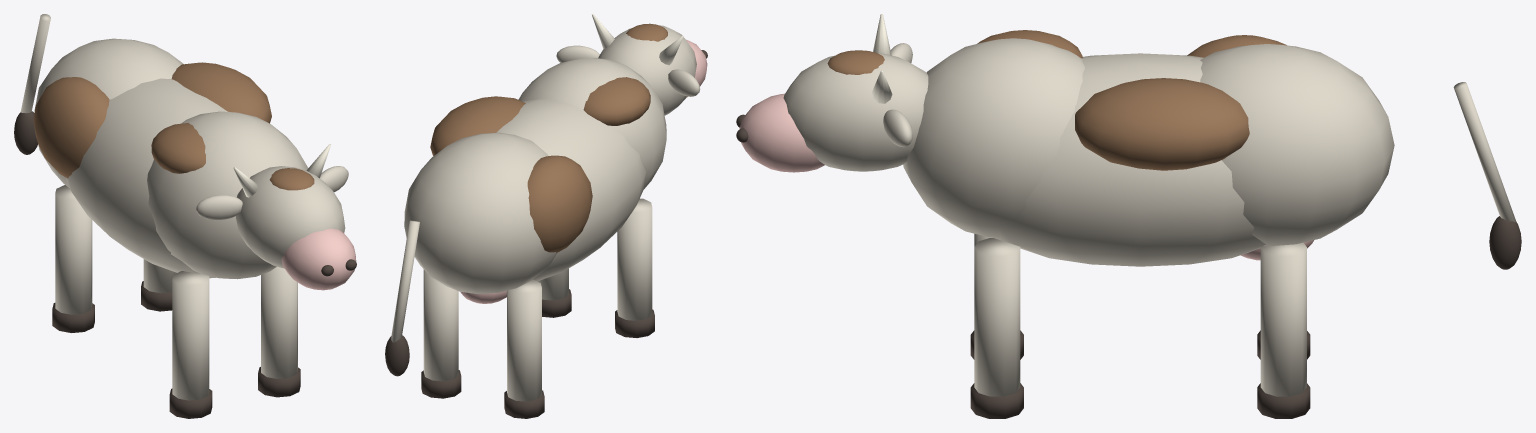
The model's file is ganado.glb.
3 renders of one model, left to right at view 1: azimuth 30°, elevation 25°; view 2: azimuth 150°, elevation 25°; view 3: azimuth 270°, elevation 25°, orthographic. The views are drawn at different scales.
Visible parts, largest first — view 1: ganado; view 2: ganado; view 3: ganado.
Part boxes in pixels (box(x1,y1,x2,y2)): ganado: box(14, 14, 356, 418); ganado: box(385, 14, 707, 418); ganado: box(736, 14, 1521, 418).
Size of the model in its own units: 1.1 by 1.62 by 3.4.
